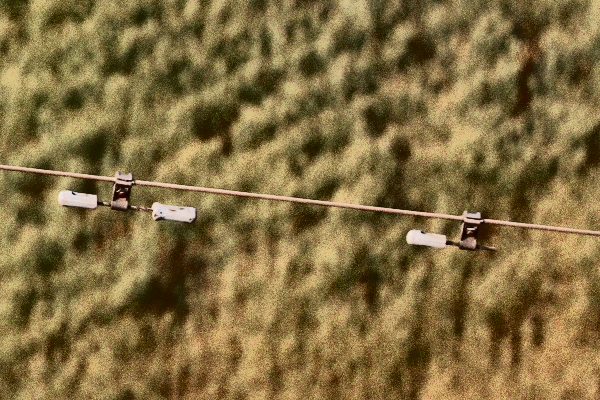damper: (54, 168, 198, 225)
damper_defect: (399, 209, 502, 254)
